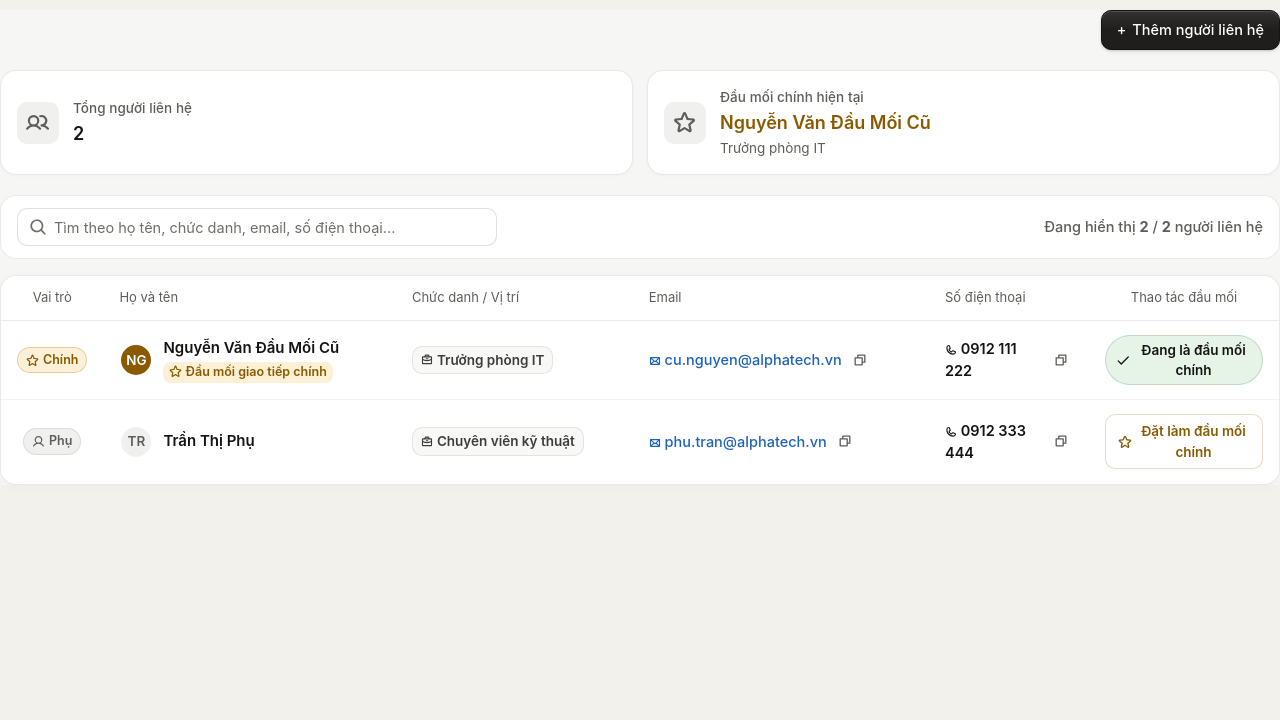
Test: Customer Contact Management Frontend (NCL-02-CN-003) › NCL-02-CN-003-TC-04: Lưu lịch sử (Nhật ký thao tác) › khi thêm người liên hệ -> gọi API tạo (backend ghi vào Nhật ký hệ thống) và cập nhật danh sách
Note: Thêm người liên hệ
Click the button with test id "btn-open-add-contact". click: (1190, 30)
box: [1101,10,1279,50]
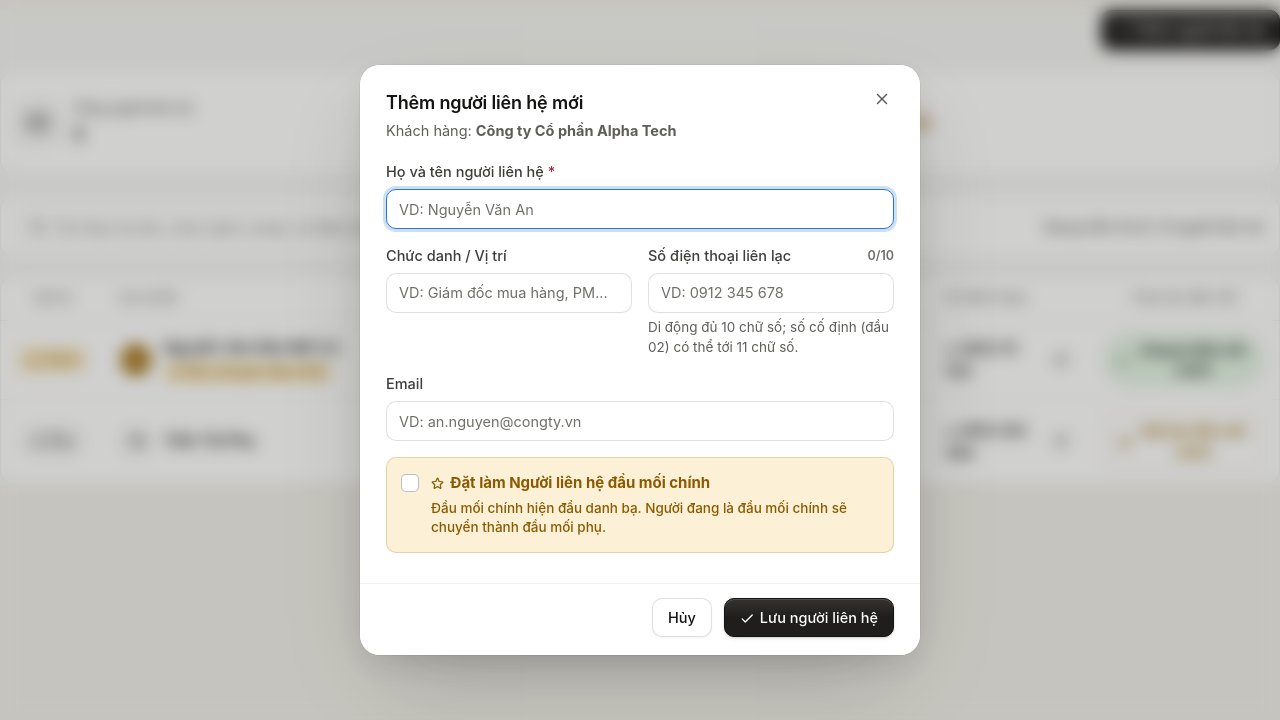
Type "Phạm Nhật Ký" into the field labelled "Họ và tên người liên hệ *". click: (640, 209)
box: [386,189,894,229]
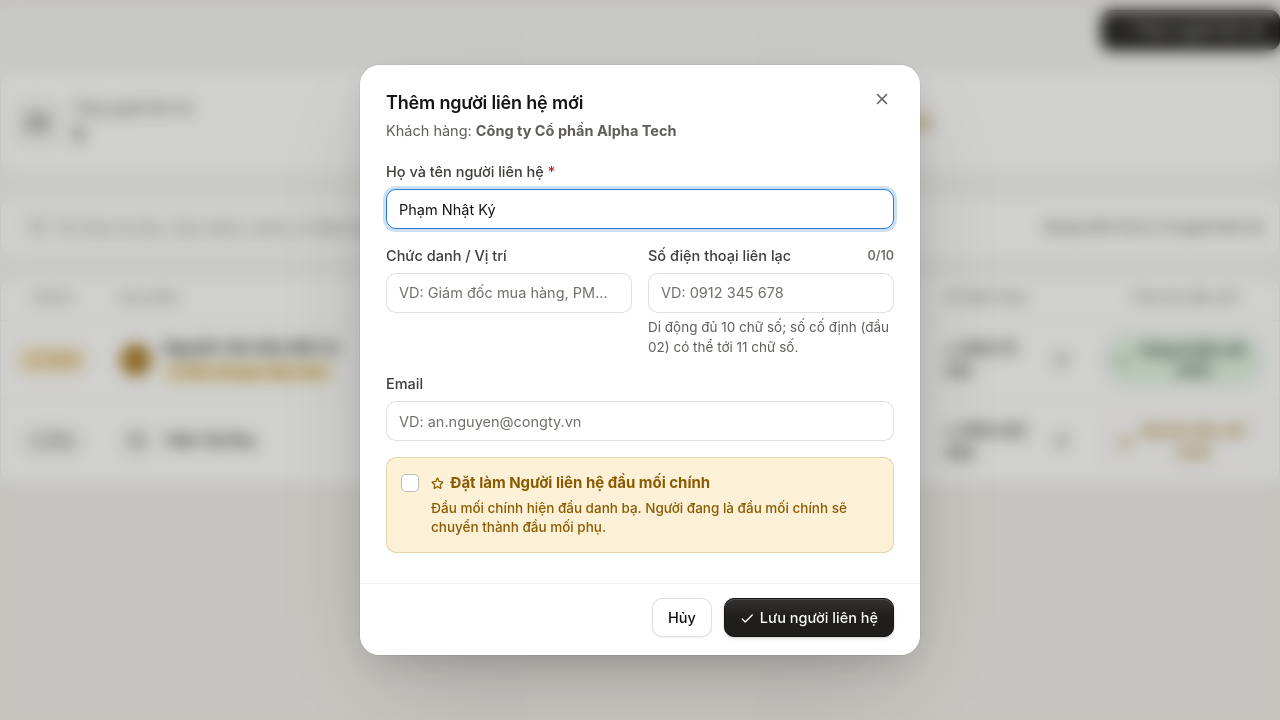
Click the button with test id "btn-submit-contact". click: (809, 618)
box: [724,598,894,638]
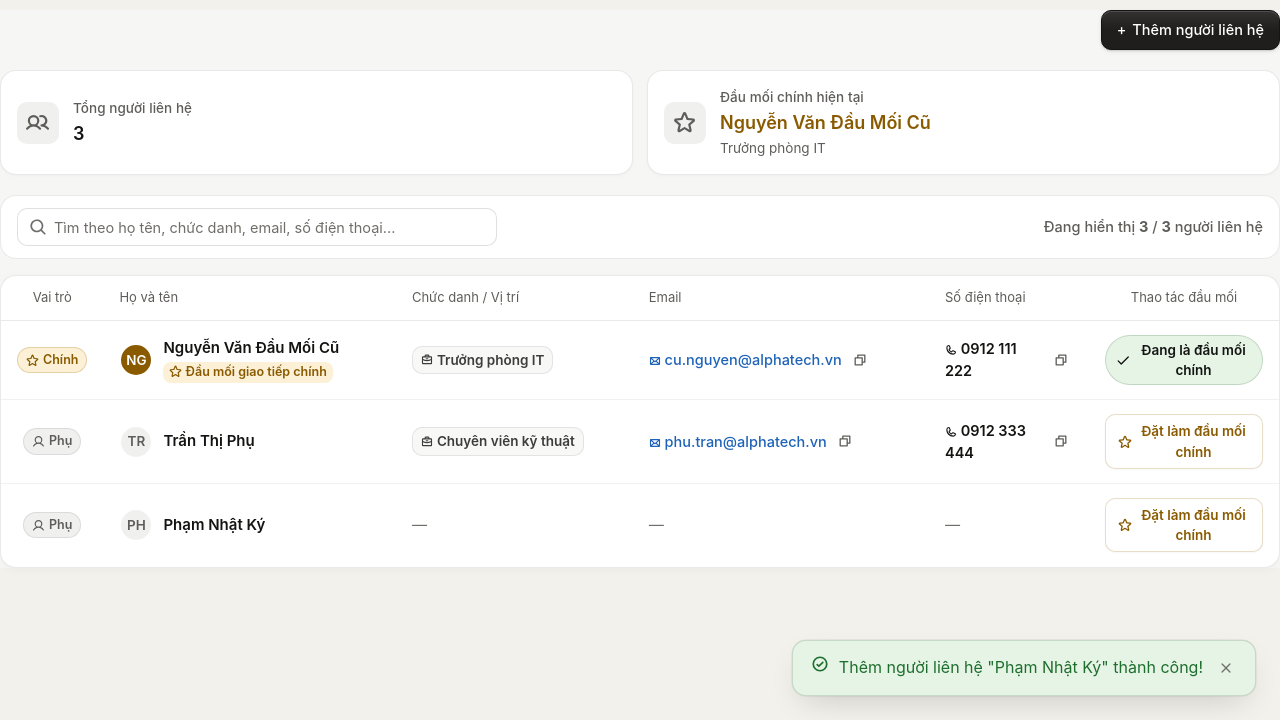
Now the text "Phạm Nhật Ký" is shown, box [163,514,265,536]
